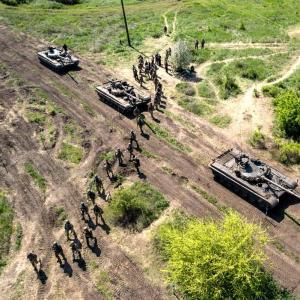tank: (208, 147, 292, 218), (95, 78, 151, 120), (37, 47, 79, 70)
